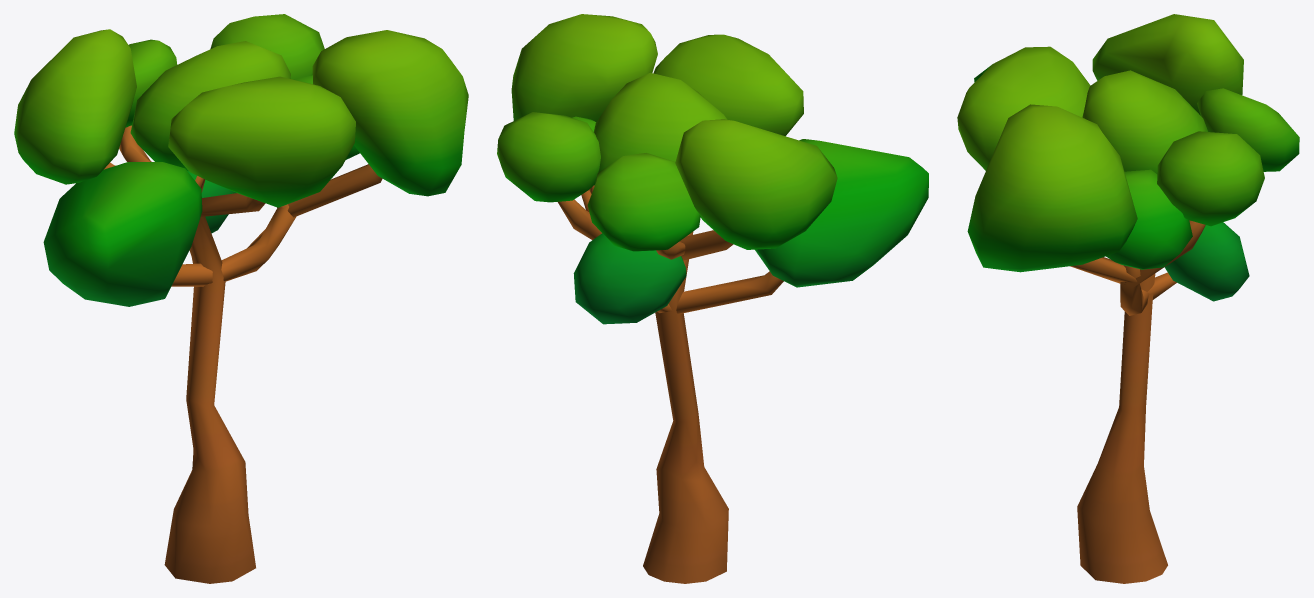
The model's file is decorLarge-forest-26.glb.
3 views of the same model, side by side, from view 1: azimuth 30°, elevation 25°; view 2: azimuth 150°, elevation 25°; view 3: azimuth 270°, elevation 25° (orthographic). The views are drawn at different scales.
Parts seen in each view (by area): view 1: piece; view 2: piece; view 3: piece.
Boxes of the visible parts, bbox=[...] form: piece: bbox=[14, 14, 468, 583]; piece: bbox=[497, 14, 928, 583]; piece: bbox=[957, 14, 1299, 583].
Bounding box in the file's own units: 2.7 × 3.31 × 2.01.
1 material, 1 textured.
